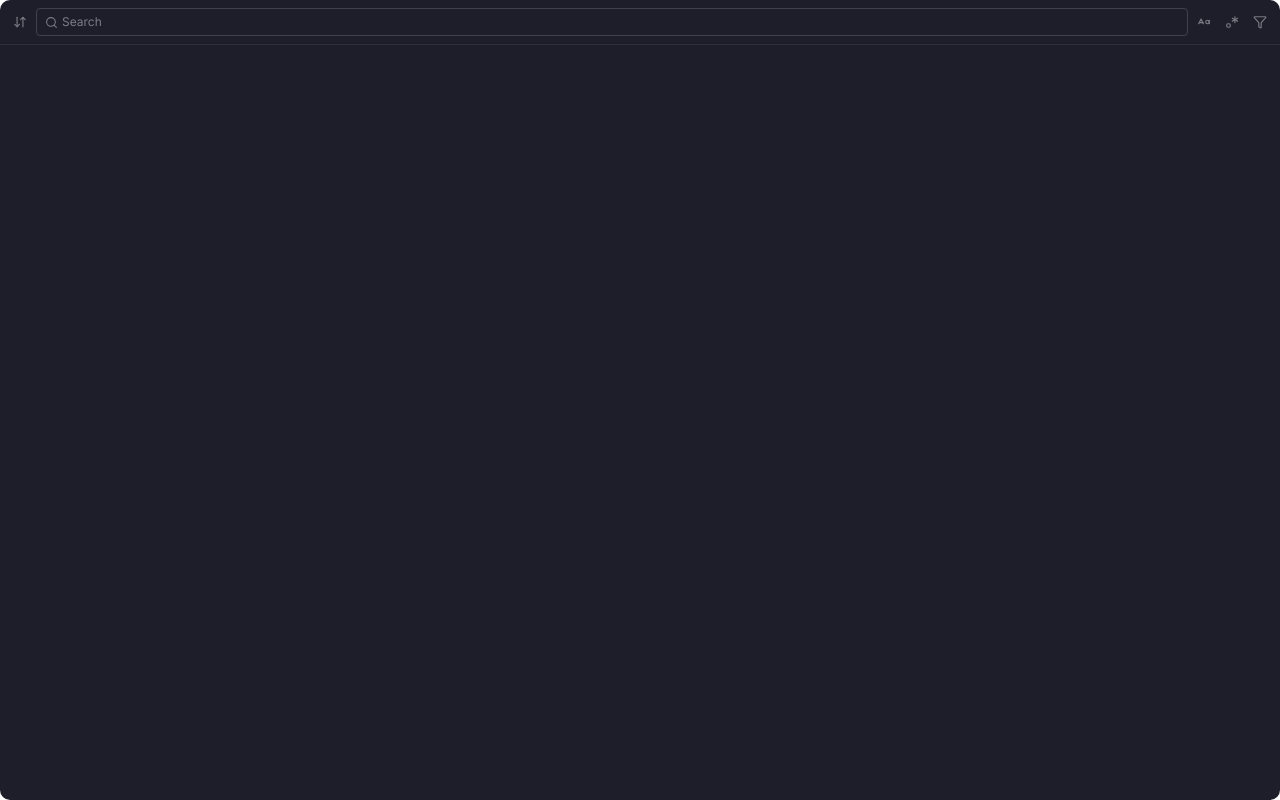
Test: SearchPanel › displays results when matches exist
This screenshot has width=1280, height=800.
In the field with placeholder "Search": coordinates (620, 22) [62,14,1179,30], type "hello"
Wait 300 ms
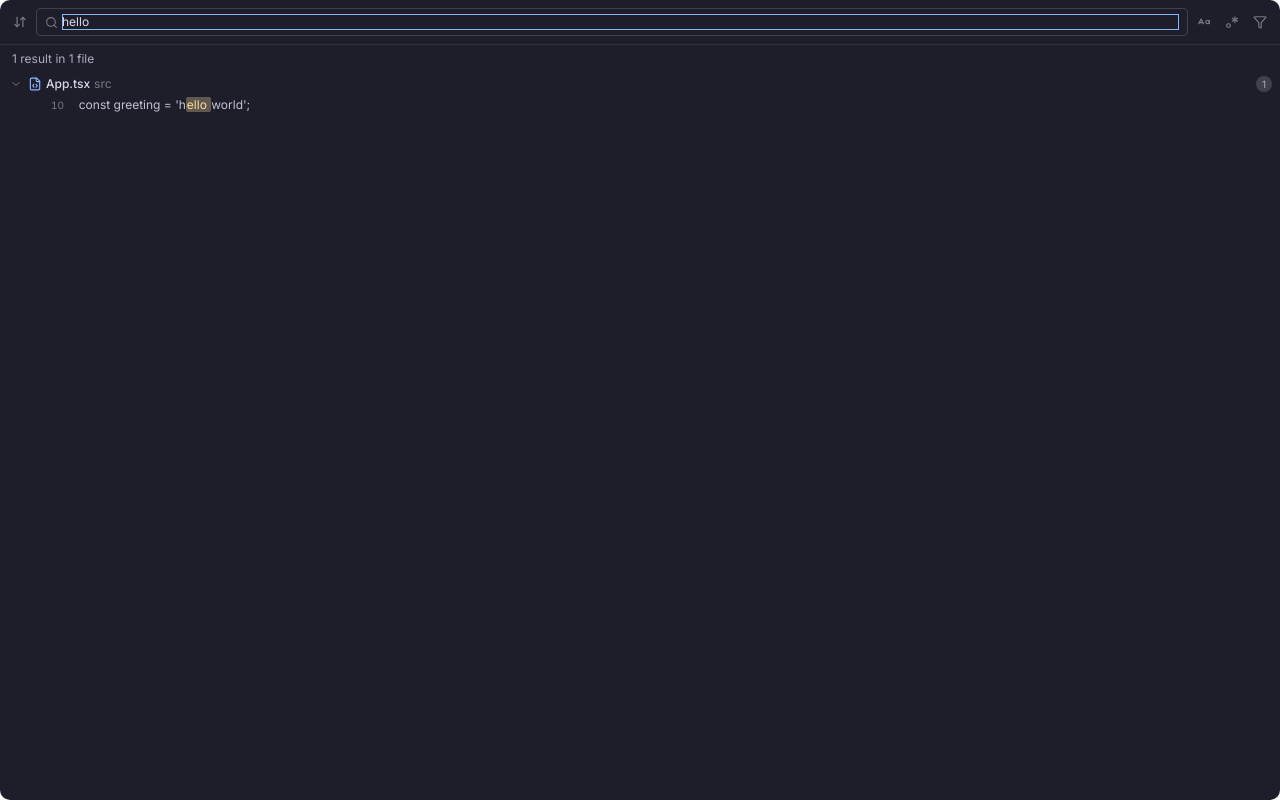
Expected: the text "1 result in 1 file" is shown, [12,51,94,66]
